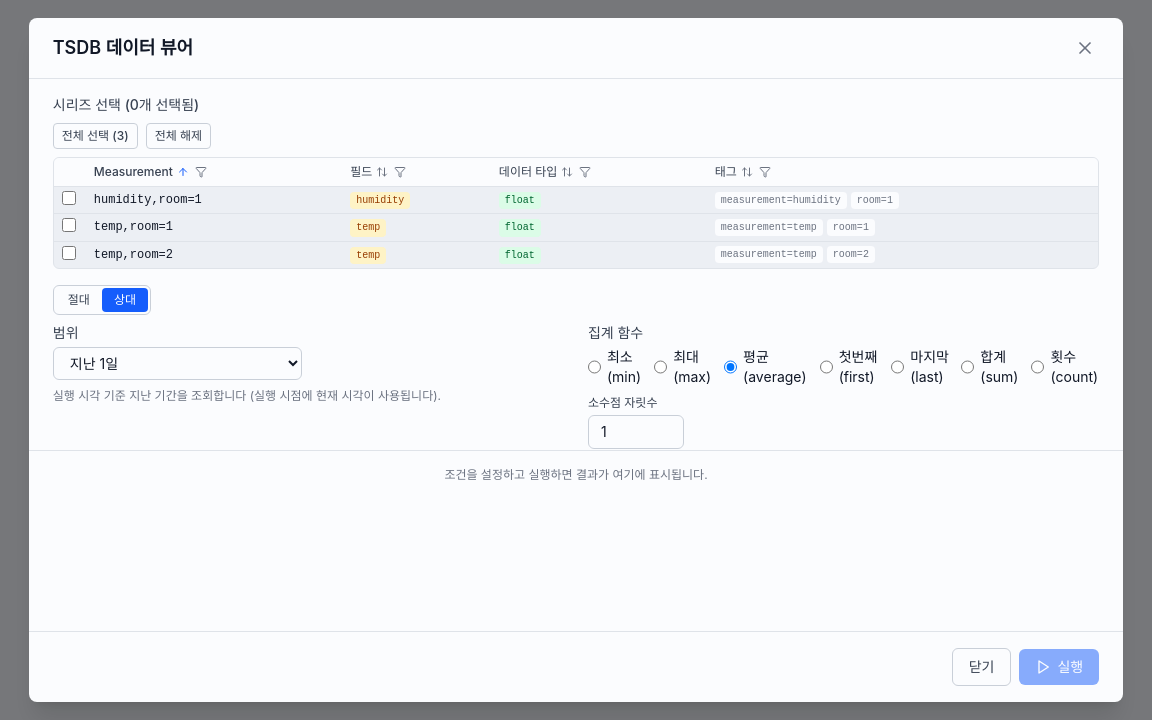
Test case: SeriesDataViewerModal › min/max 집계 선택 시 소수점 자릿수 입력이 숨겨진다
Click the radio button labelled "최소 (min)" at (594, 367), box [588,360,601,374]
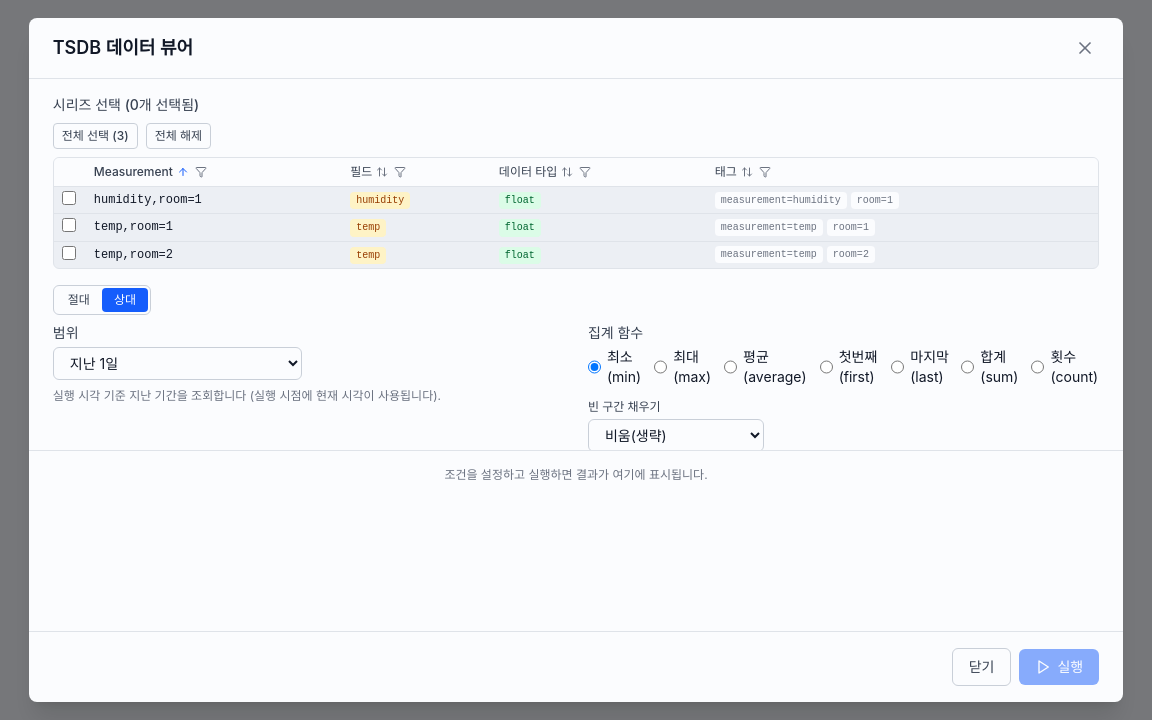
expect the label with test id "tsdb-decimal-precision" is gone: met
Click the radio button labelled "최대 (max)" at (661, 367), box [654,360,667,374]
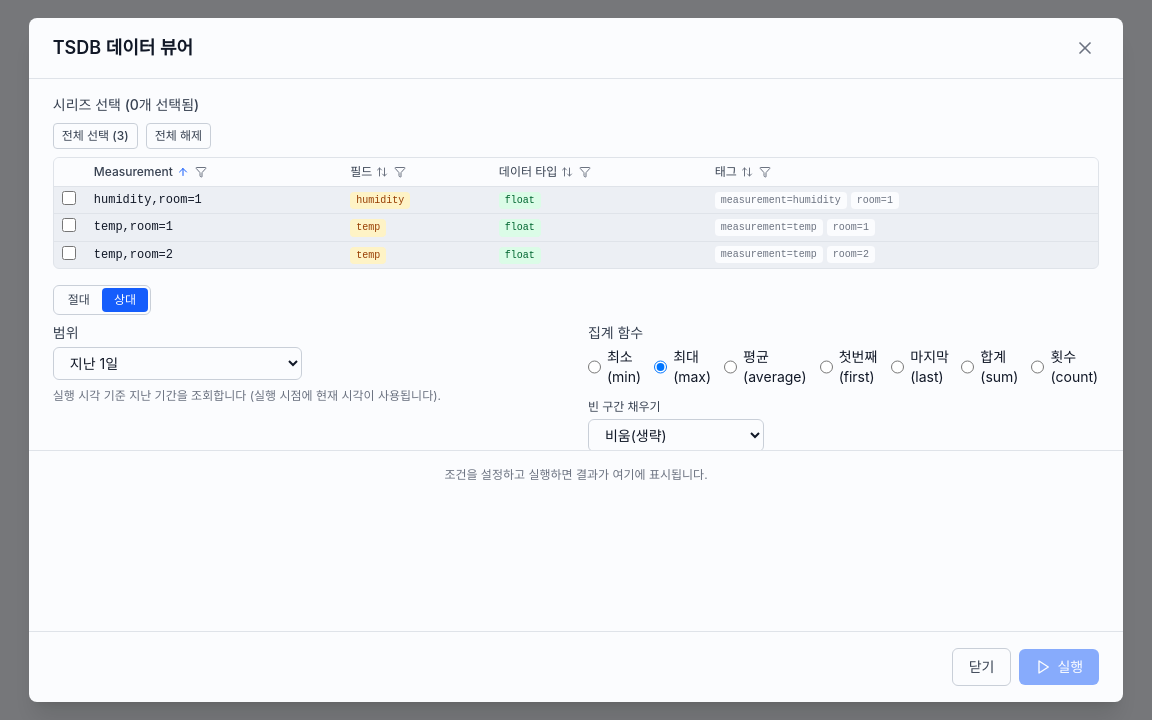
// 다시 평균 선택 → 입력 노출.
Click the radio button labelled "평균 (average)" at (731, 367), box [724,360,737,374]
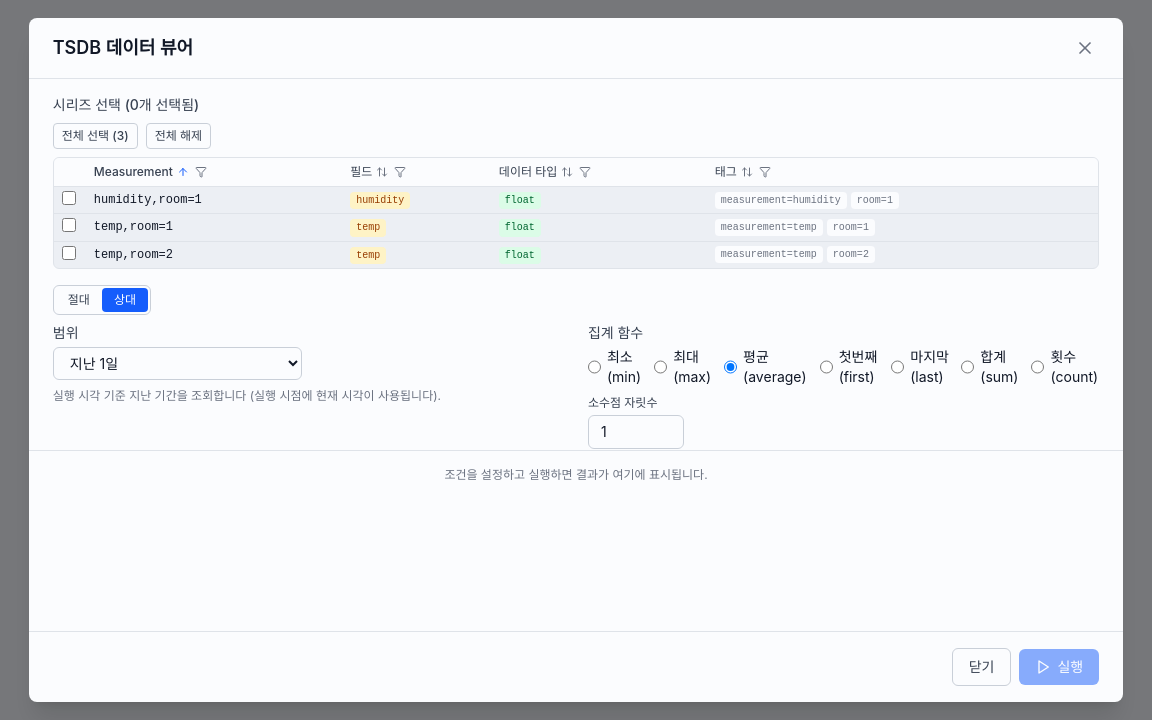
expect the number field with test id "tsdb-decimal-precision" is shown: met, box [588,415,684,449]
